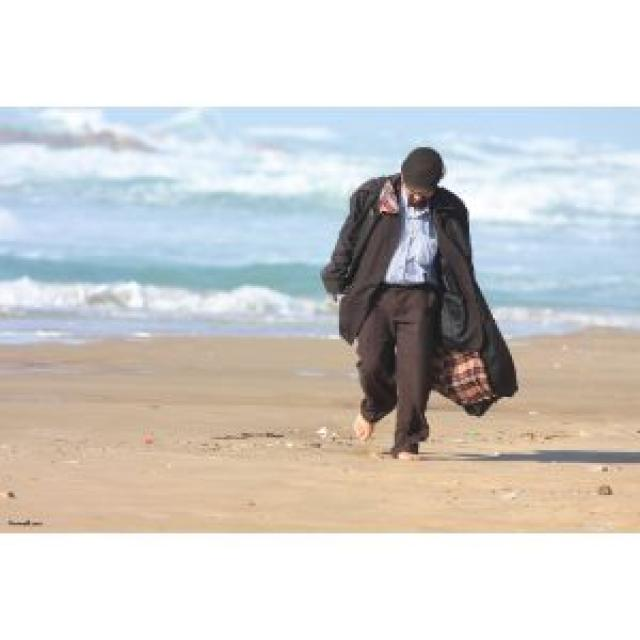nonfall: (306, 151, 511, 449)
